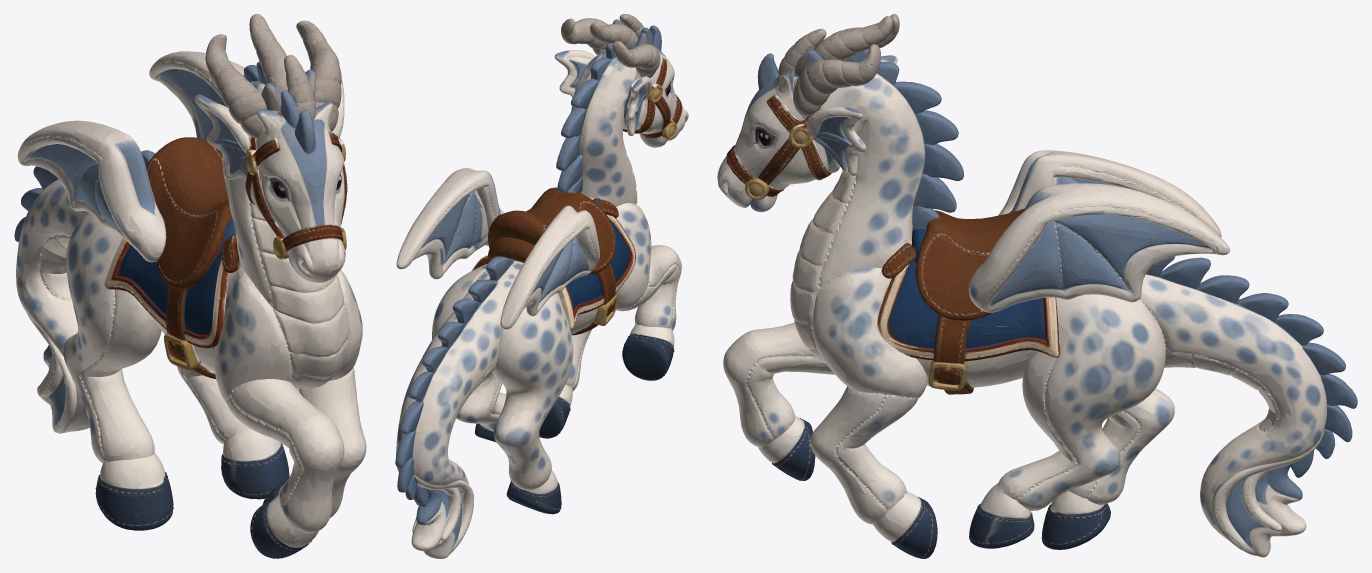
The model's file is dragon.glb.
3 views of the same model, side by side, from view 1: azimuth 30°, elevation 25°; view 2: azimuth 150°, elevation 25°; view 3: azimuth 270°, elevation 25° (orthographic). The views are drawn at different scales.
Size of the model in its own units: 0.6045 by 1.76 by 1.9.
Materials: 1 (1 with a texture image).
